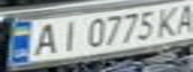0: (81, 15, 109, 48)
5: (136, 7, 160, 42)
7: (103, 11, 124, 46), (121, 10, 142, 43)
A: (24, 20, 63, 57), (169, 1, 193, 34)
I: (51, 17, 84, 53)
K: (151, 3, 187, 37)
